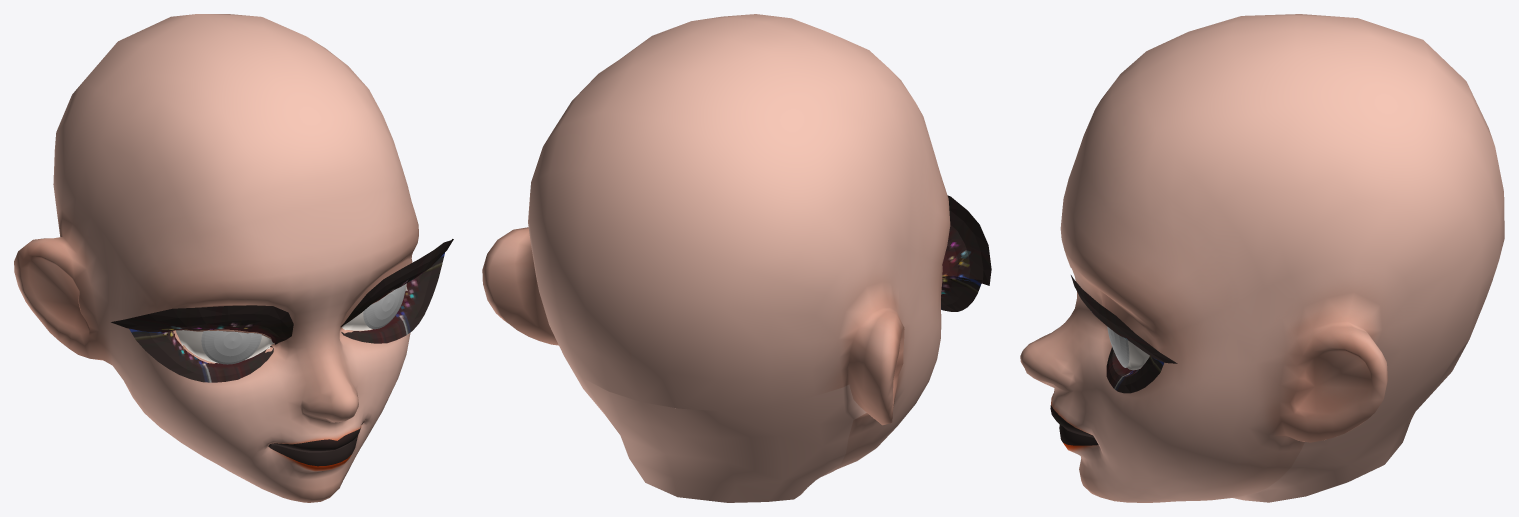
File: head1.FBX
The picture shows the model from 3 angles, left to right: view 1: azimuth 30°, elevation 25°; view 2: azimuth 150°, elevation 25°; view 3: azimuth 270°, elevation 25°; orthographic projection. The views are drawn at different scales.
Visible parts, largest first — view 1: head002, jiemao002; view 2: head002, jiemao002; view 3: head002, jiemao002.
Part boxes in pixels (x1=…): head002: x1=14, y1=14, x2=418, y2=502; jiemao002: x1=111, y1=239, x2=453, y2=382; head002: x1=482, y1=14, x2=950, y2=502; jiemao002: x1=941, y1=195, x2=991, y2=311; head002: x1=1020, y1=14, x2=1504, y2=502; jiemao002: x1=1071, y1=275, x2=1177, y2=393.
Bounding box in the file's own units: 18.86 × 20.8 × 19.65.
